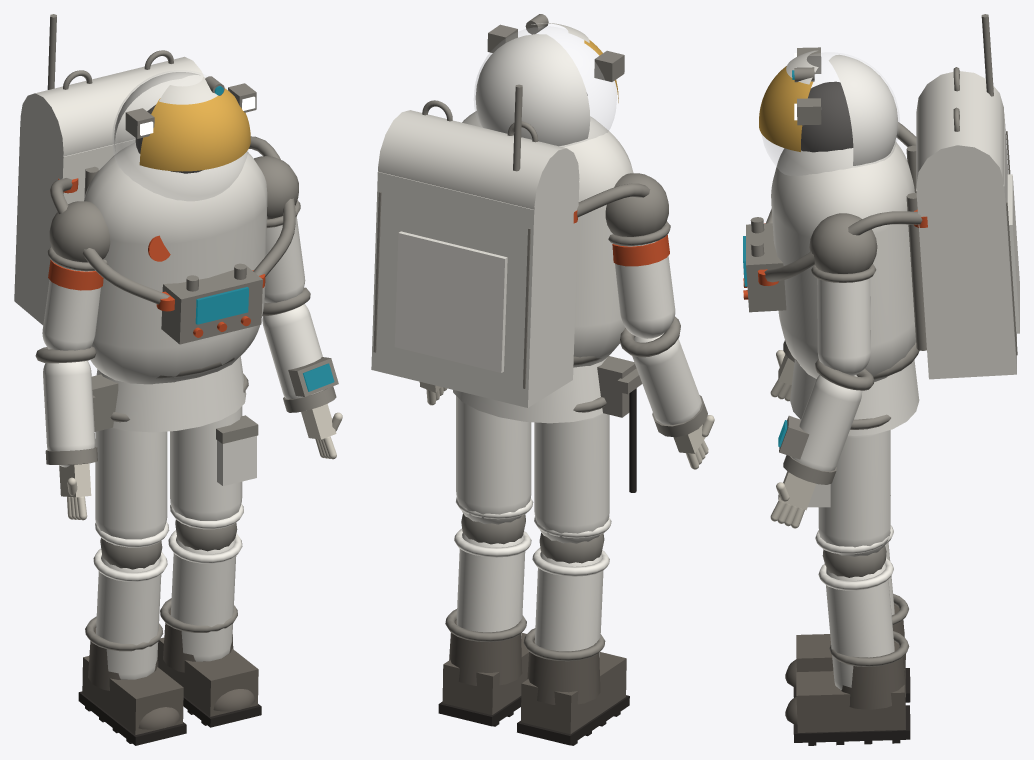
The model's file is astronauta.glb.
3 renders of one model, left to right at view 1: azimuth 30°, elevation 25°; view 2: azimuth 150°, elevation 25°; view 3: azimuth 270°, elevation 25°, orthographic. The views are drawn at different scales.
Visible parts, largest first — view 1: torso, casco, rodilla_0, rodilla_1, muslo_0, cadera, muslo_1, hombro_1, tobillo_1, codo_1, codo_0, tobillo_0 (+1 smaller); view 2: torso, casco, muslo_1, tobillo_1, hombro_1, rodilla_1, rodilla_0, muslo_0, tobillo_0, codo_1, cadera; view 3: torso, casco, tobillo_0, hombro_0, codo_0, rodilla_0, muslo_0, cadera, tobillo_1, codo_1.
Part boxes in pixels (x1=…): torso: x1=14, y1=14, x2=295, y2=384; casco: x1=113, y1=71, x2=256, y2=200; rodilla_0: x1=168, y1=503, x2=243, y2=661; rodilla_1: x1=93, y1=522, x2=169, y2=679; muslo_0: x1=170, y1=374, x2=258, y2=529; cadera: x1=91, y1=356, x2=246, y2=432; muslo_1: x1=95, y1=412, x2=167, y2=547; hombro_1: x1=42, y1=201, x2=110, y2=350; tobillo_1: x1=78, y1=616, x2=186, y2=745; codo_1: x1=35, y1=346, x2=97, y2=520; codo_0: x1=262, y1=287, x2=342, y2=459; tobillo_0: x1=158, y1=598, x2=261, y2=727; torso: x1=371, y1=84, x2=650, y2=407; casco: x1=474, y1=14, x2=624, y2=146; muslo_1: x1=534, y1=397, x2=609, y2=543; tobillo_1: x1=517, y1=628, x2=629, y2=745; hombro_1: x1=605, y1=173, x2=675, y2=338; rodilla_1: x1=532, y1=516, x2=611, y2=657; rodilla_0: x1=454, y1=497, x2=533, y2=638; muslo_0: x1=456, y1=396, x2=531, y2=524; tobillo_0: x1=438, y1=609, x2=528, y2=726; codo_1: x1=619, y1=316, x2=714, y2=469; cadera: x1=453, y1=356, x2=642, y2=492; torso: x1=743, y1=14, x2=1019, y2=382; casco: x1=759, y1=47, x2=899, y2=175; tobillo_0: x1=785, y1=631, x2=910, y2=745; hombro_0: x1=809, y1=213, x2=877, y2=375; codo_0: x1=770, y1=359, x2=873, y2=528; rodilla_0: x1=815, y1=530, x2=894, y2=690; muslo_0: x1=808, y1=414, x2=890, y2=556; cadera: x1=790, y1=342, x2=919, y2=435; tobillo_1: x1=785, y1=593, x2=910, y2=702; codo_1: x1=770, y1=340, x2=794, y2=401.
Bounding box in the file's own units: 0.834 × 1.86 × 0.6916.
